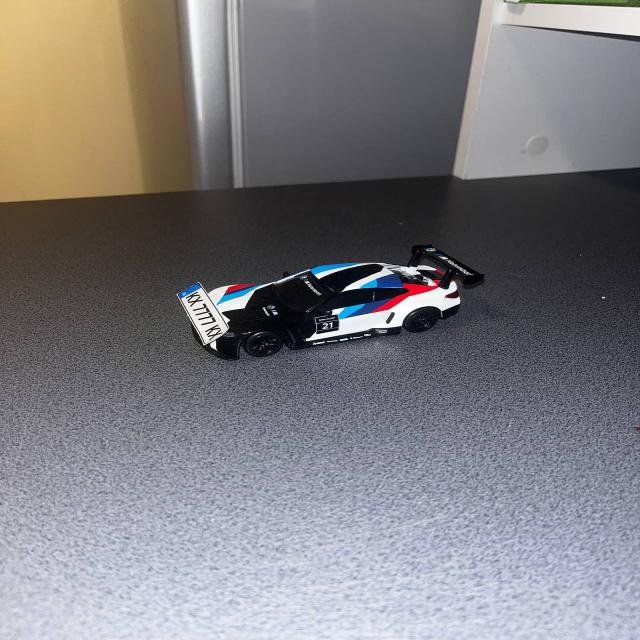KX 7777 KX: (172, 278, 235, 349)
